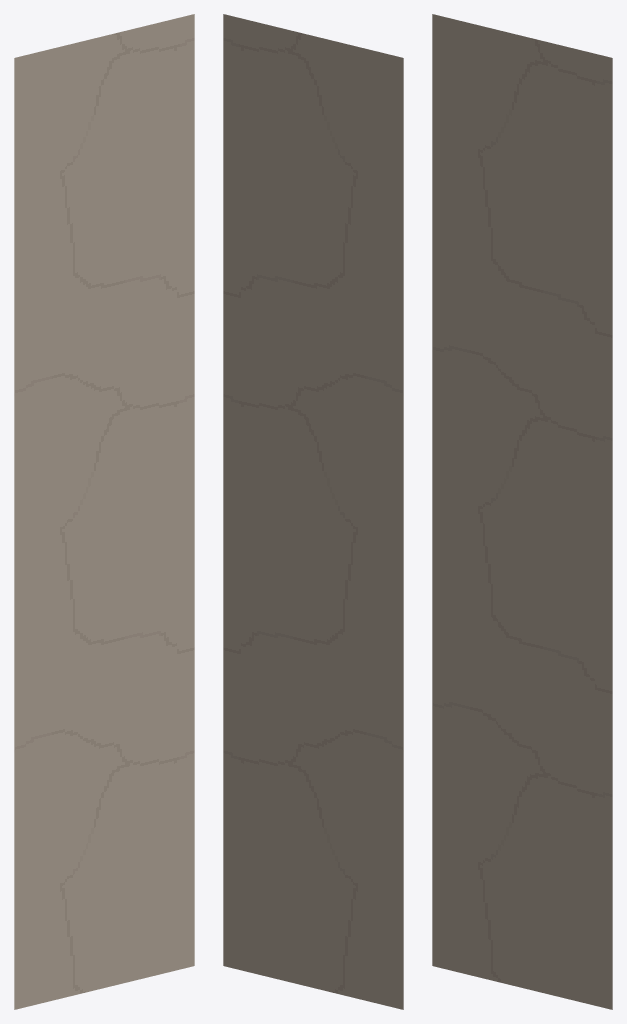
The model's file is kd_stage_135c43_4_159_bounded_piece_2.glb.
The picture shows the model from 3 angles, left to right: view 1: azimuth 30°, elevation 25°; view 2: azimuth 150°, elevation 25°; view 3: azimuth 330°, elevation 25°; orthographic projection.
Visible parts, largest first — view 1: kd_stage_135c43_4_159_bounded_piece_2; view 2: kd_stage_135c43_4_159_bounded_piece_2; view 3: kd_stage_135c43_4_159_bounded_piece_2.
Boxes of the visible parts, x1=… form: kd_stage_135c43_4_159_bounded_piece_2: x1=14, y1=14, x2=194, y2=1009; kd_stage_135c43_4_159_bounded_piece_2: x1=223, y1=14, x2=403, y2=1009; kd_stage_135c43_4_159_bounded_piece_2: x1=432, y1=14, x2=612, y2=1009.
Bounding box in the file's own units: 0.2148 × 1.09 × 9.54e-07.
Materials: 1 (1 with a texture image).
